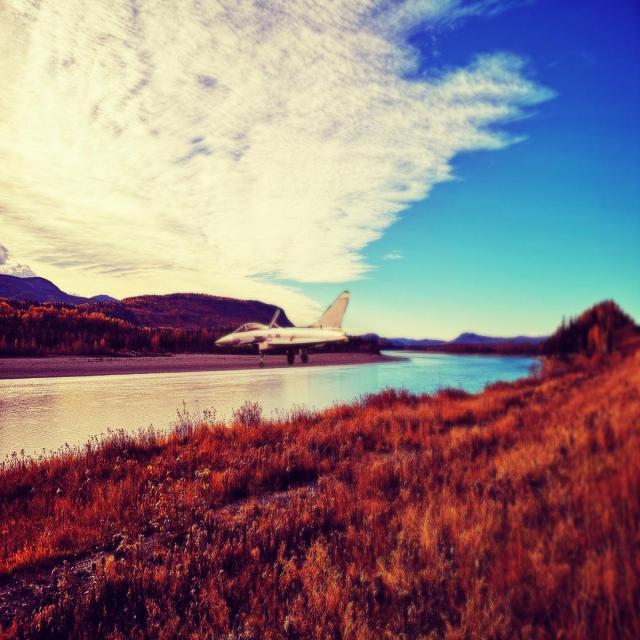airplane: (214, 290, 350, 367)
